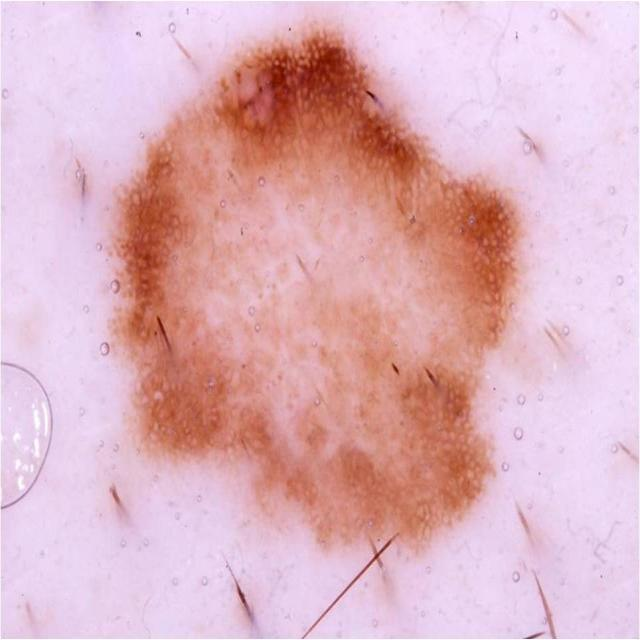Melanoma: (91, 26, 523, 564)
